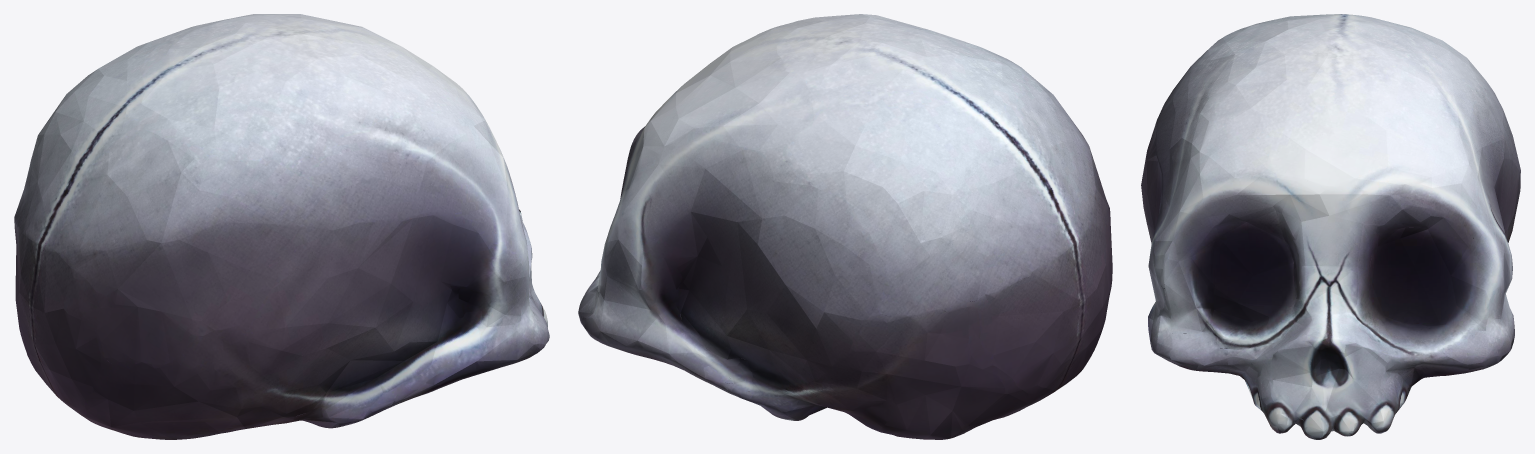
File: Skull.fbx
3 views of the same model, side by side, from view 1: azimuth 30°, elevation 25°; view 2: azimuth 150°, elevation 25°; view 3: azimuth 270°, elevation 25° (orthographic). The views are drawn at different scales.
Visible parts, largest first — view 1: Skull_Finished; view 2: Skull_Finished; view 3: Skull_Finished.
Boxes of the visible parts, <box> form: Skull_Finished: <box>14,14,549,439</box>; Skull_Finished: <box>578,14,1112,439</box>; Skull_Finished: <box>1141,14,1520,439</box>.
Size of the model in its own units: 6.74 by 4.49 by 5.24.
